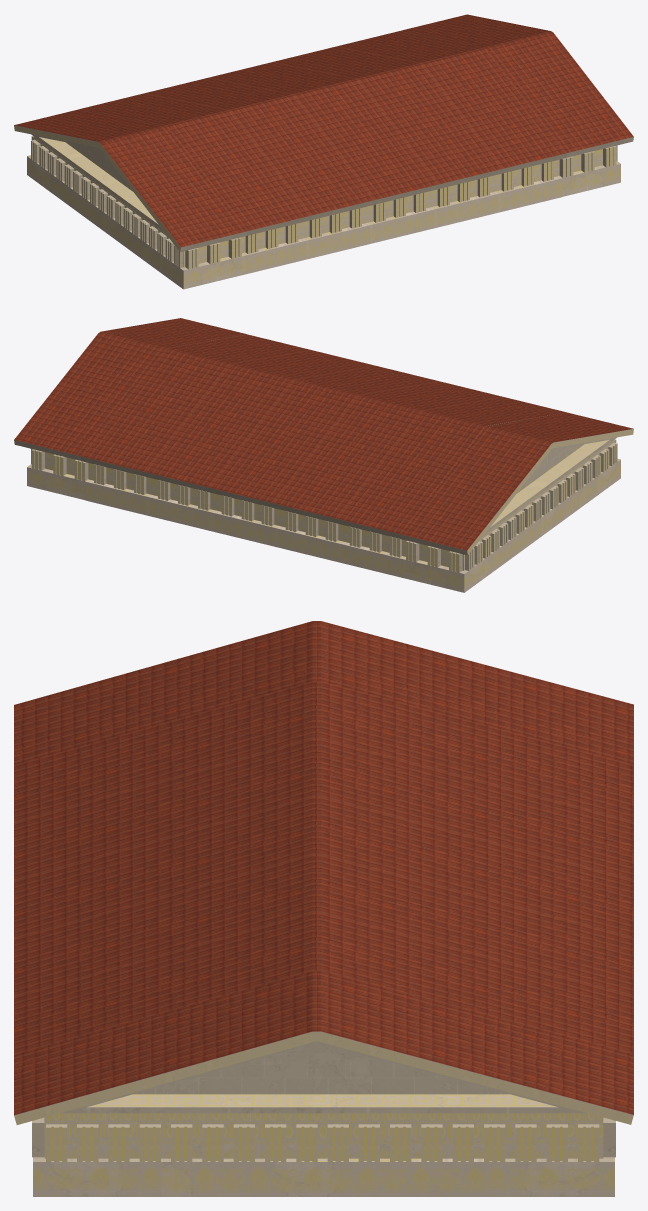
The model's file is SM_temple_roof_prefab_01.glb.
3 views of the same model, one above another, from view 1: azimuth 30°, elevation 25°; view 2: azimuth 150°, elevation 25°; view 3: azimuth 270°, elevation 25° (orthographic). The views are drawn at different scales.
Parts seen in each view (by area): view 1: SM_temple_roof_prefab_01; view 2: SM_temple_roof_prefab_01; view 3: SM_temple_roof_prefab_01.
Part boxes in pixels (<box>): SM_temple_roof_prefab_01: <box>14,14,633,289</box>; SM_temple_roof_prefab_01: <box>14,318,633,592</box>; SM_temple_roof_prefab_01: <box>14,621,633,1196</box>.
Bounding box in the file's own units: 40.77 × 8.01 × 26.01.
2 materials, 2 textured.
